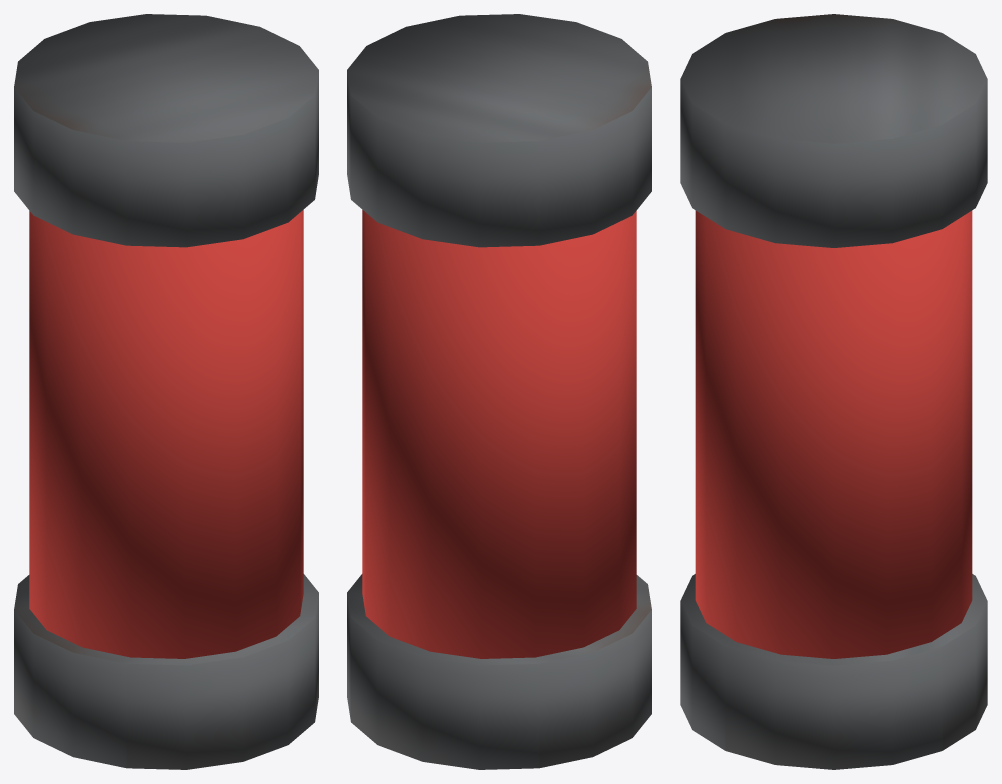
Rendered from SM_Fuse_Red.fbx.
The picture shows the model from 3 angles, left to right: view 1: azimuth 30°, elevation 25°; view 2: azimuth 150°, elevation 25°; view 3: azimuth 270°, elevation 25°; orthographic projection.
Visible parts, largest first — view 1: SM_Fuse_Red; view 2: SM_Fuse_Red; view 3: SM_Fuse_Red.
Boxes of the visible parts, bbox=[...] form: SM_Fuse_Red: bbox=[14, 14, 318, 769]; SM_Fuse_Red: bbox=[347, 14, 651, 769]; SM_Fuse_Red: bbox=[680, 14, 987, 769].
Size of what is drawn, in the model's own units: 0.04 by 0.09 by 0.04.
2 materials, 1 textured.
